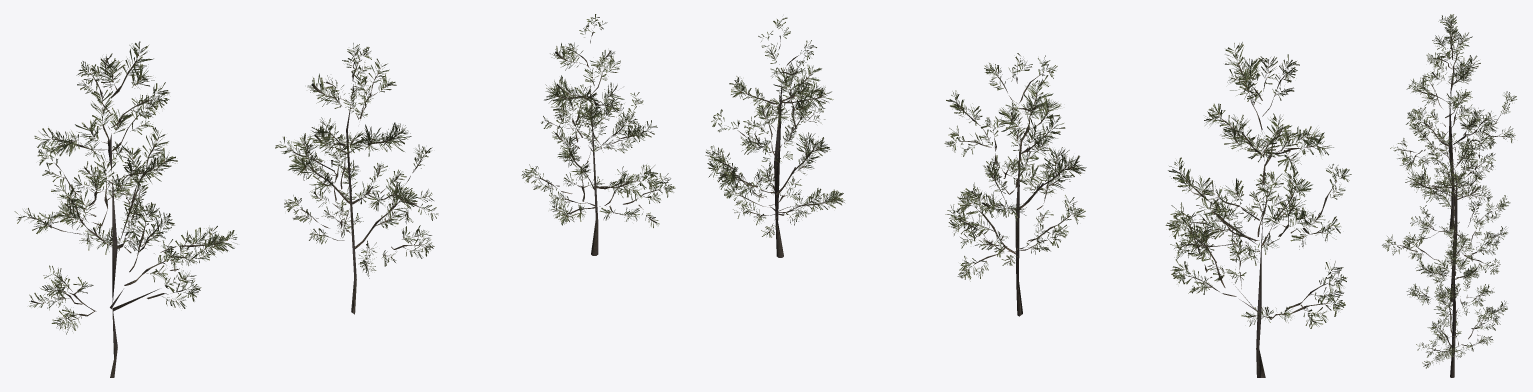
The model's file is pine_sapling_small.glb.
The picture shows the model from 3 angles, left to right: view 1: azimuth 30°, elevation 25°; view 2: azimuth 150°, elevation 25°; view 3: azimuth 270°, elevation 25°; orthographic projection. The views are drawn at different scales.
Visible parts, largest first — view 1: pine_sapling_small_a, pine_sapling_small_b, pine_sapling_small_c; view 2: pine_sapling_small_a, pine_sapling_small_b, pine_sapling_small_c; view 3: pine_sapling_small_a, pine_sapling_small_b, pine_sapling_small_c.
Boxes of the visible parts, x1,y1,x2,y2 form: pine_sapling_small_a: (14, 41, 237, 377); pine_sapling_small_b: (275, 43, 438, 314); pine_sapling_small_c: (521, 14, 675, 255); pine_sapling_small_a: (1165, 42, 1351, 377); pine_sapling_small_b: (944, 53, 1086, 316); pine_sapling_small_c: (705, 17, 844, 257); pine_sapling_small_a: (1390, 14, 1516, 229); pine_sapling_small_b: (1382, 133, 1510, 302); pine_sapling_small_c: (1406, 222, 1507, 377).
Size of the model in its own units: 2.64 by 1.3 by 0.7679.
2 materials, 2 textured.
